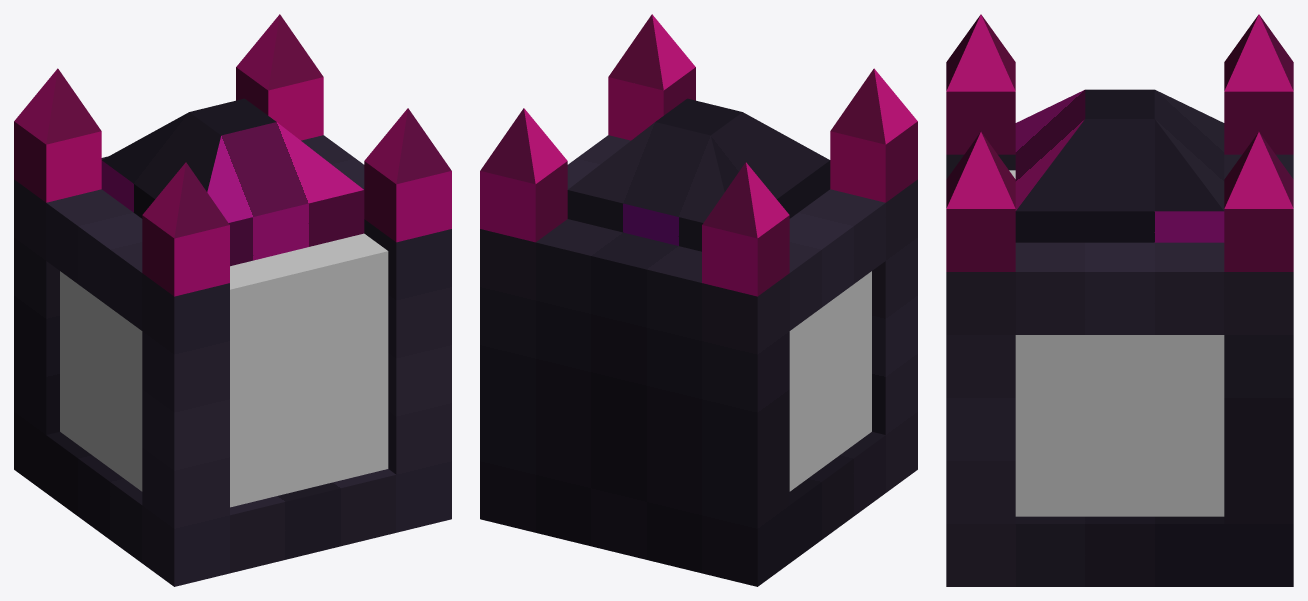
The model's file is head_smart.obj.
3 renders of one model, left to right at view 1: azimuth 30°, elevation 25°; view 2: azimuth 150°, elevation 25°; view 3: azimuth 270°, elevation 25°, orthographic. The views are drawn at different scales.
Parts seen in each view (by area): view 1: HEAD_SMART_IRON_Cube.169; view 2: HEAD_SMART_IRON_Cube.169; view 3: HEAD_SMART_IRON_Cube.169.
Part boxes in pixels (x1,y1,x2,y2): HEAD_SMART_IRON_Cube.169: [14, 14, 451, 586]; HEAD_SMART_IRON_Cube.169: [480, 14, 917, 586]; HEAD_SMART_IRON_Cube.169: [946, 14, 1293, 586].
Size of the model in its own units: 0.3125 by 0.4375 by 0.3125.
